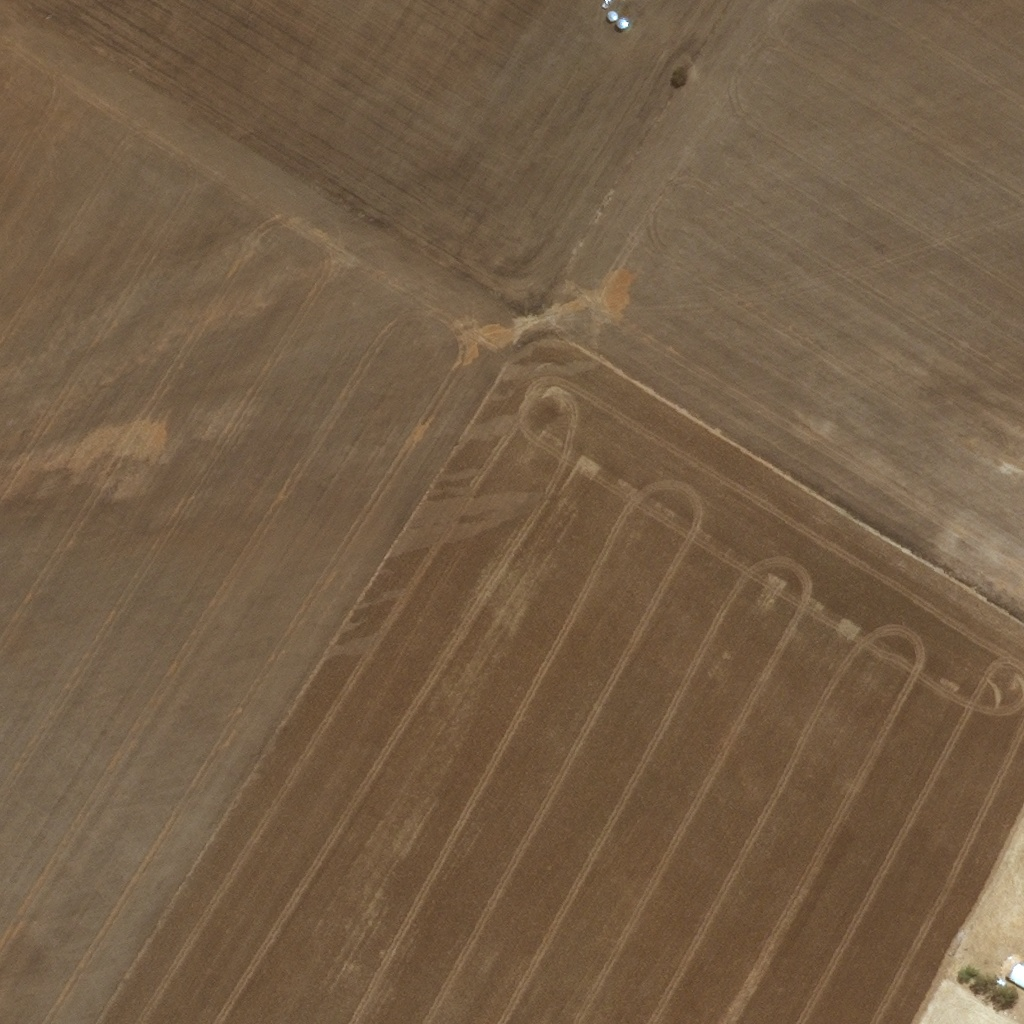0 no-damage: (1007, 963, 1023, 988)
